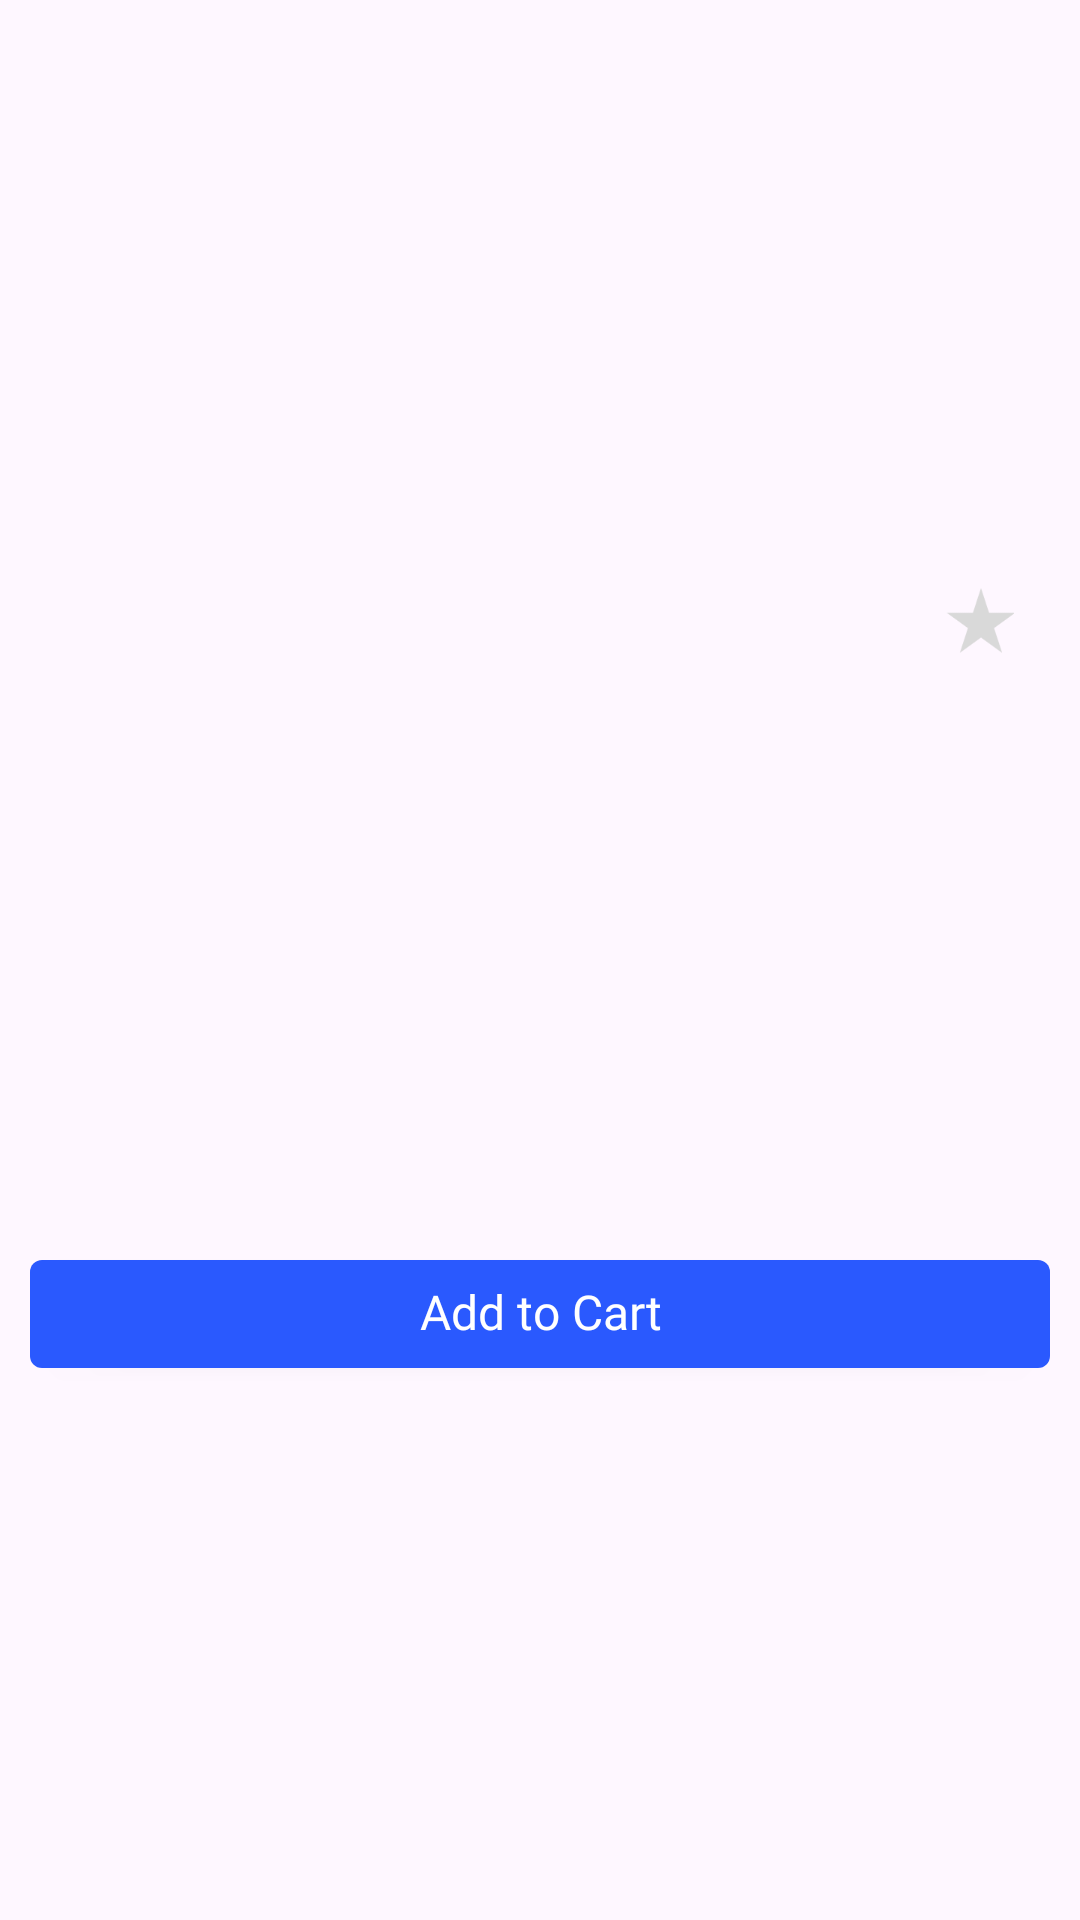

Icon bounding boxes for this 1080*1920 phone screenshot, format (x1,y1,x2,y2):
unsaved: (948,590,1014,651)
